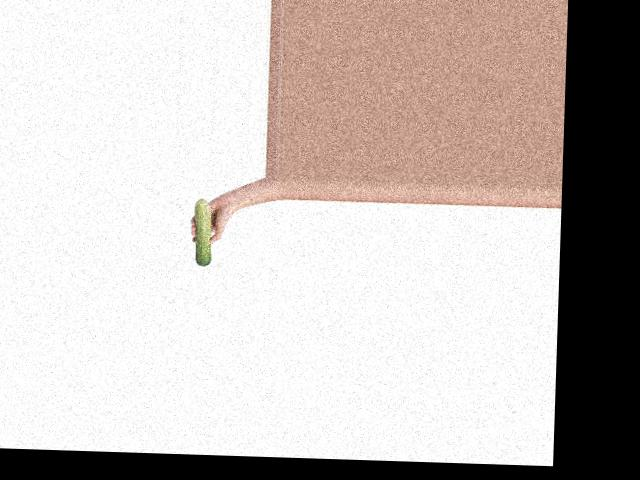cucumber: (194, 197, 214, 266)
